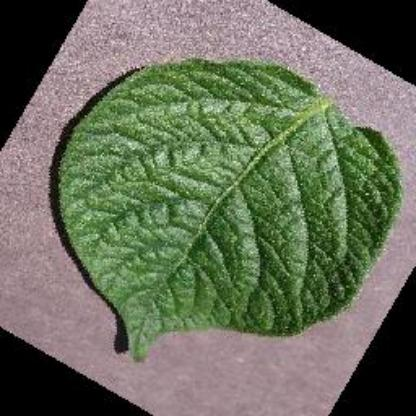Healthy-plant: (52, 27, 402, 415)
